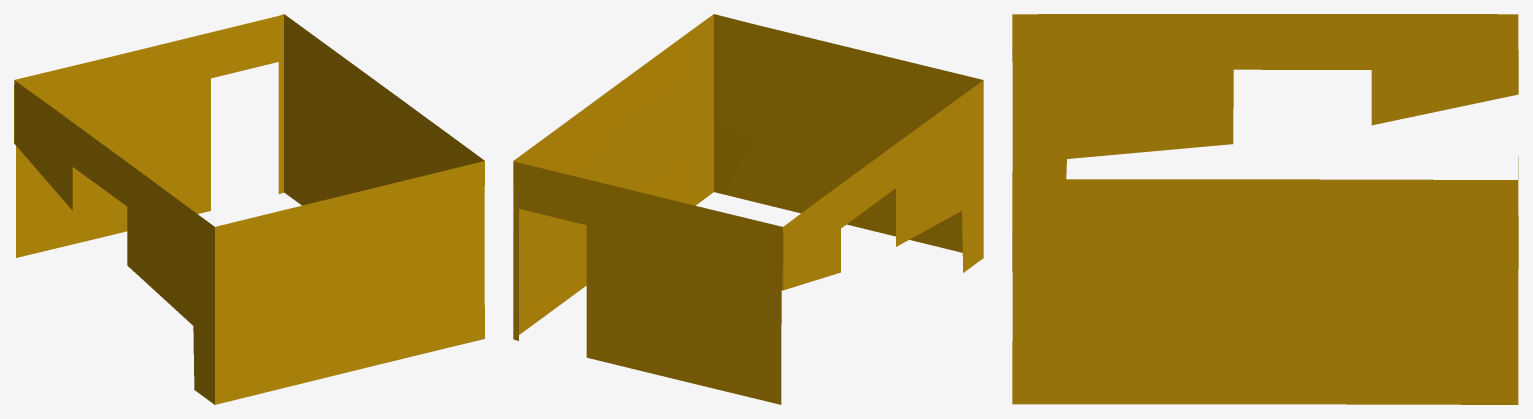
The model's file is H07C_WP_09_Break.fbx.
The picture shows the model from 3 angles, left to right: view 1: azimuth 30°, elevation 25°; view 2: azimuth 150°, elevation 25°; view 3: azimuth 270°, elevation 25°; orthographic projection. The views are drawn at different scales.
Visible parts, largest first — view 1: H07C_WP_09_Break; view 2: H07C_WP_09_Break; view 3: H07C_WP_09_Break.
Part boxes in pixels (box(x1,y1,x2,y2)): H07C_WP_09_Break: box(14, 14, 484, 404); H07C_WP_09_Break: box(513, 14, 983, 404); H07C_WP_09_Break: box(1012, 14, 1518, 404).
Size of the model in its own units: 476 by 301 by 612.
